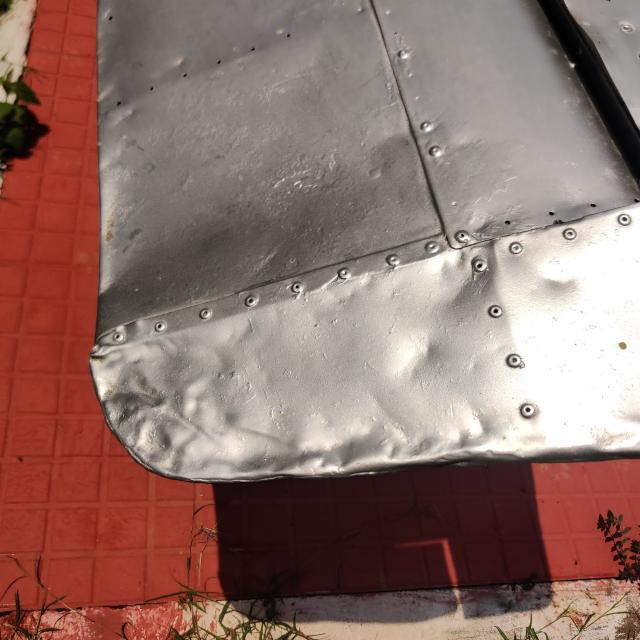dent: (228, 405, 640, 491), (79, 316, 262, 490), (424, 241, 510, 326), (376, 320, 456, 397), (525, 250, 593, 316)
